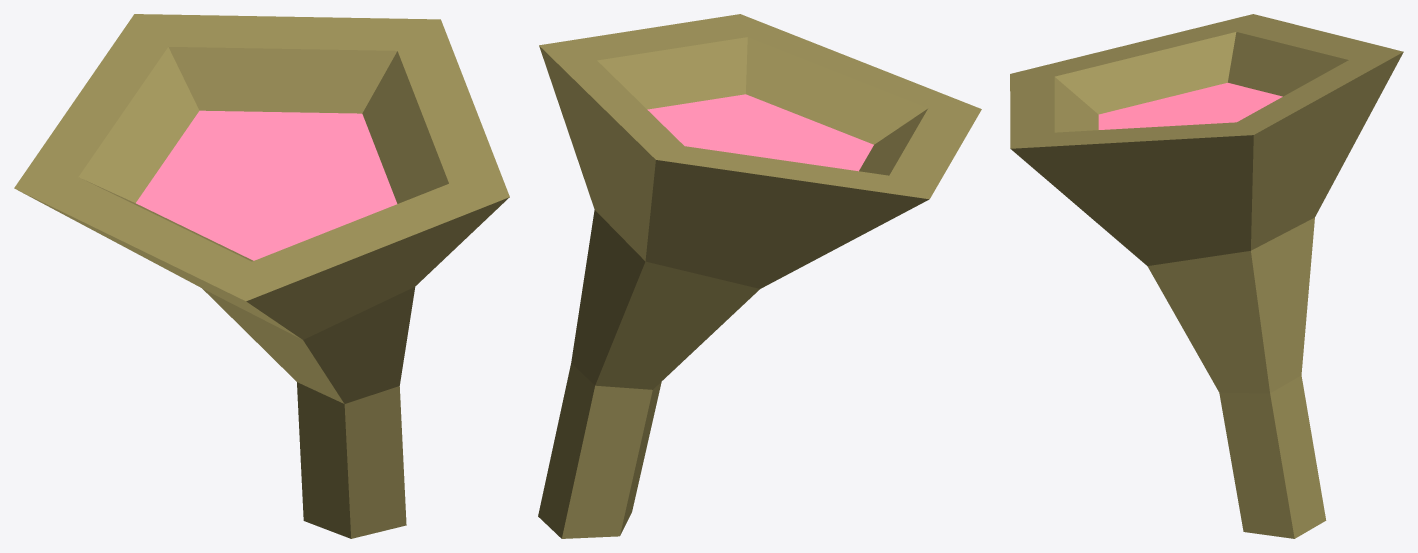
Rendered from LPSciFi_AlienPlantH1.fbx.
3 renders of one model, left to right at view 1: azimuth 30°, elevation 25°; view 2: azimuth 150°, elevation 25°; view 3: azimuth 270°, elevation 25°, orthographic. The views are drawn at different scales.
Visible parts, largest first — view 1: AlienPlantH1; view 2: AlienPlantH1; view 3: AlienPlantH1.
Boxes of the visible parts, left/top/right/bottom form: AlienPlantH1: left=14, top=14, right=509, bottom=538; AlienPlantH1: left=538, top=14, right=981, bottom=538; AlienPlantH1: left=1010, top=14, right=1403, bottom=538.
Bounding box in the file's own units: 84.08 × 92.49 × 79.84.
